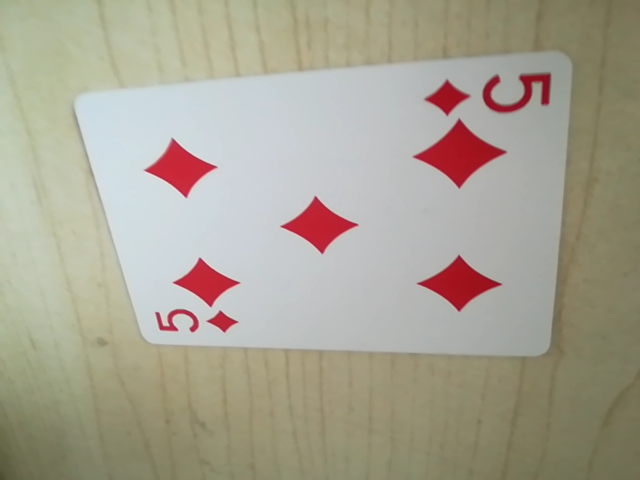fk 5: (424, 64, 551, 122), (150, 300, 244, 341)
